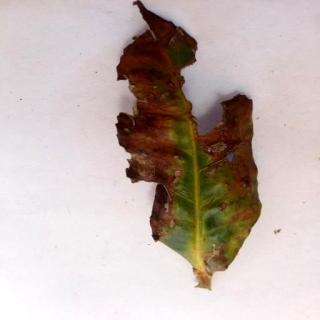Algal Leaf: (118, 1, 264, 291)
